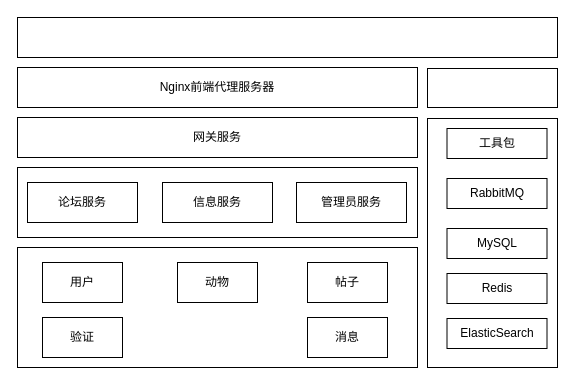
Image size: 575x385. Some labels were removed from this diagram. Here are the shapes that lost their labels. From the top down, the centre of each, then its label:
point 287,37: H5/App/小程序
point 492,88: 文件共享服务器
